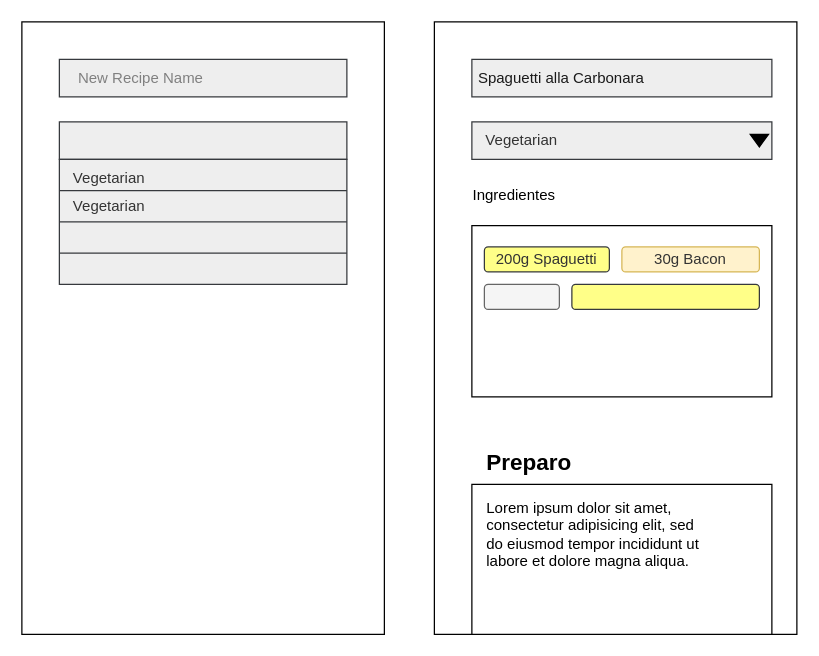
The diagram is 819 pixels wide and 656 high, and some of its shapes have lost their labels. Here are the shapes that lost their labels. From the top down, the box of each, then its label:
(483, 283, 559, 309): 3 Ovos
(571, 283, 759, 309): 1 pitada Pimenta do Reino
